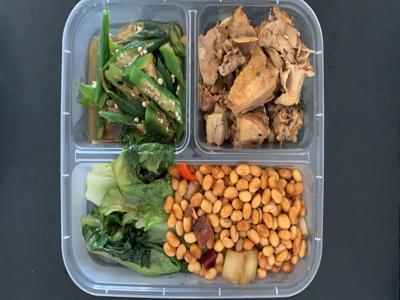ymc: (76, 162, 186, 281)
